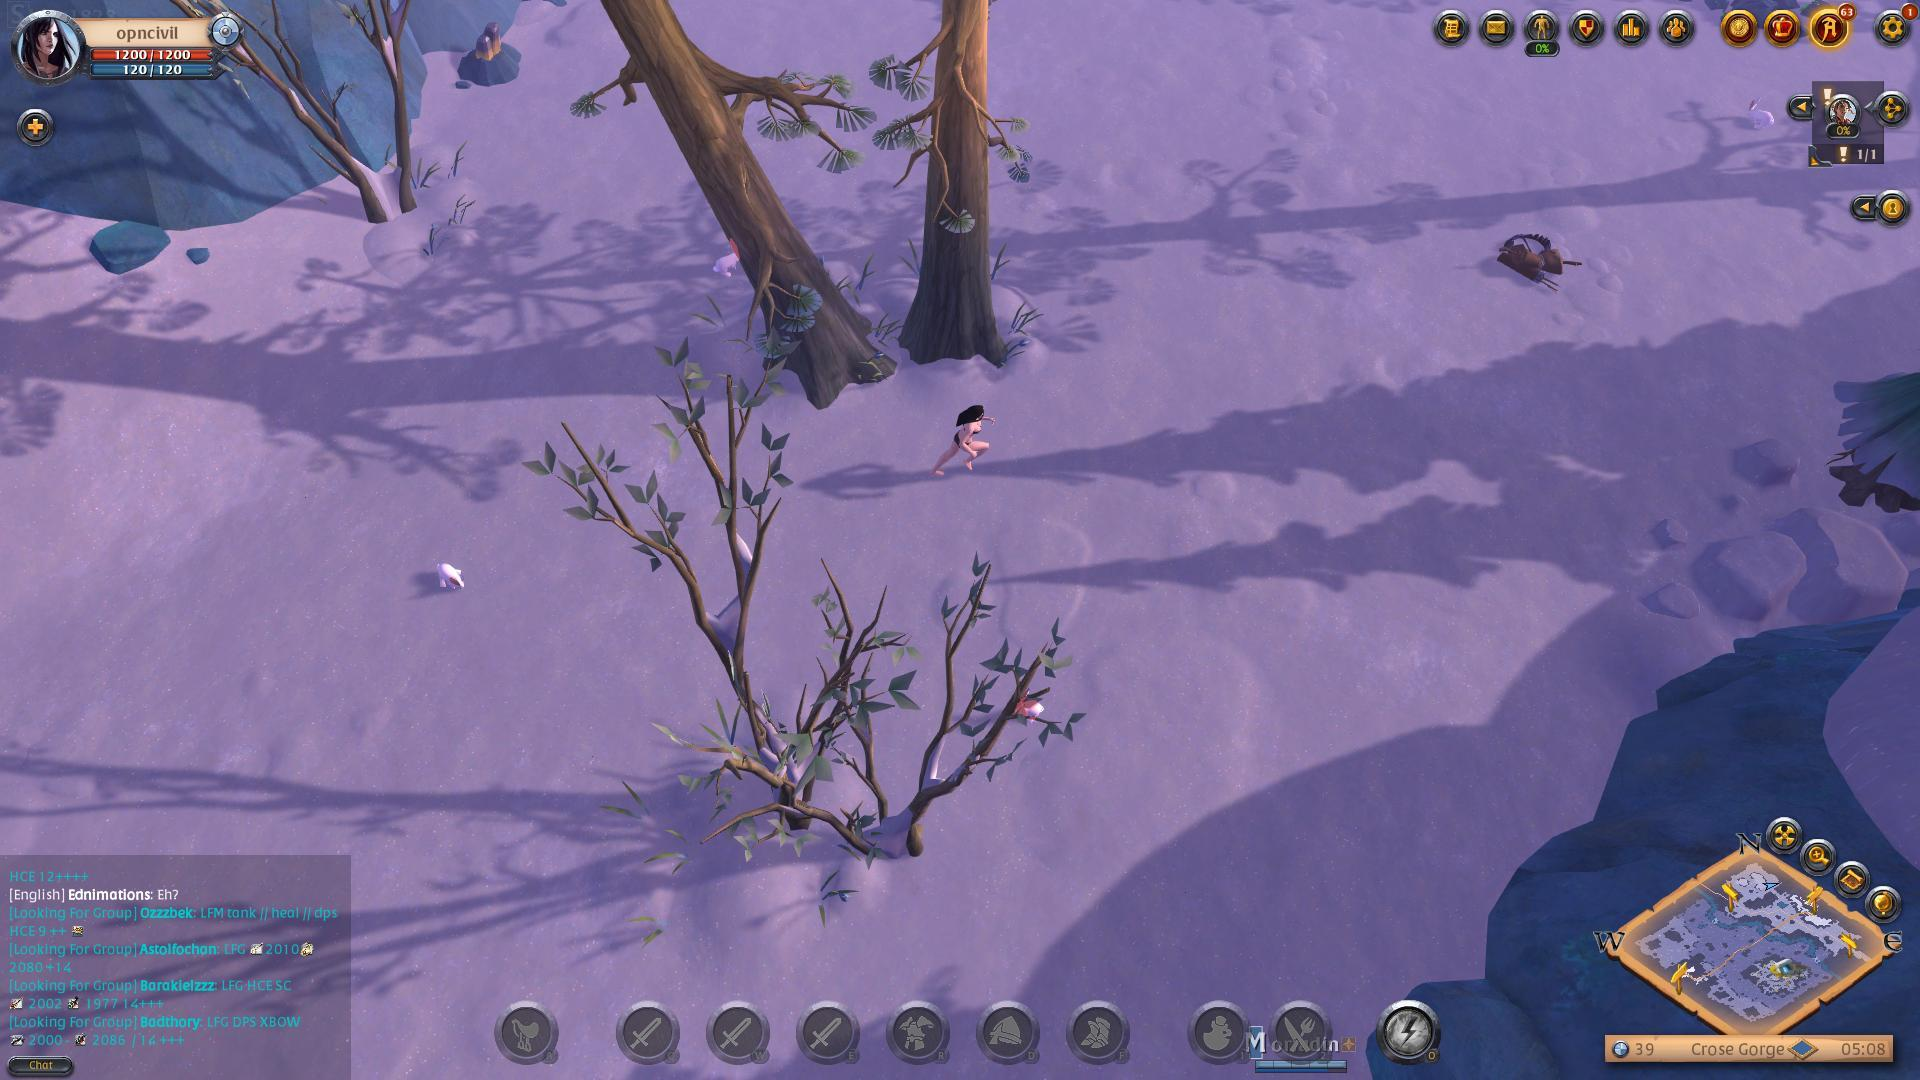copper_ore: (456, 16, 531, 94)
